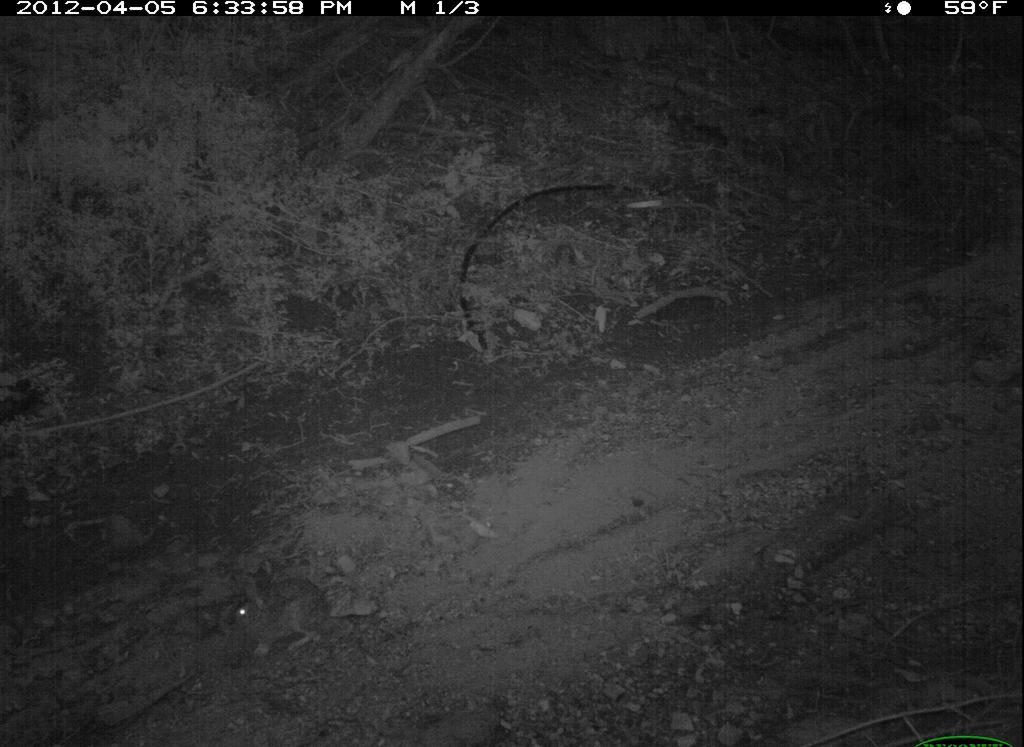rabbit: (223, 559, 359, 661)
